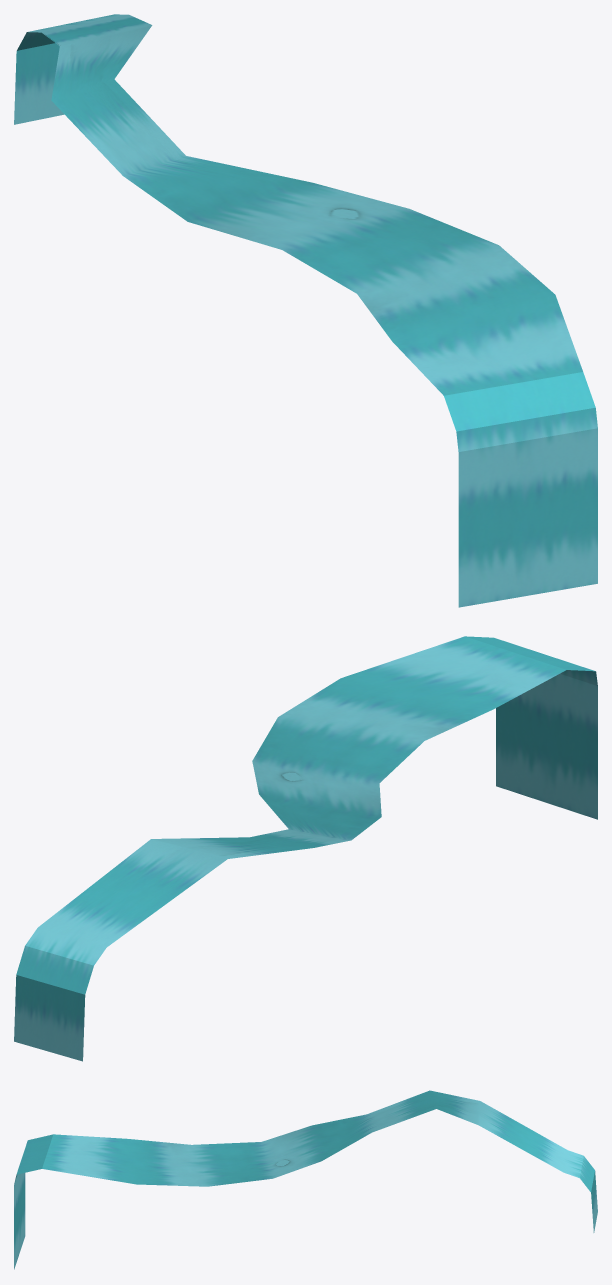
The model's file is River.fbx.
3 renders of one model, top to bottom at view 1: azimuth 30°, elevation 25°; view 2: azimuth 150°, elevation 25°; view 3: azimuth 270°, elevation 25°, orthographic. The views are drawn at different scales.
Visible parts, largest first — view 1: polySurface649; view 2: polySurface649; view 3: polySurface649.
Part boxes in pixels (<box>): polySurface649: <box>14,14,597,607</box>; polySurface649: <box>14,636,597,1061</box>; polySurface649: <box>14,1090,597,1269</box>.
Size of the model in its own units: 14.1 by 13.97 by 53.09.
